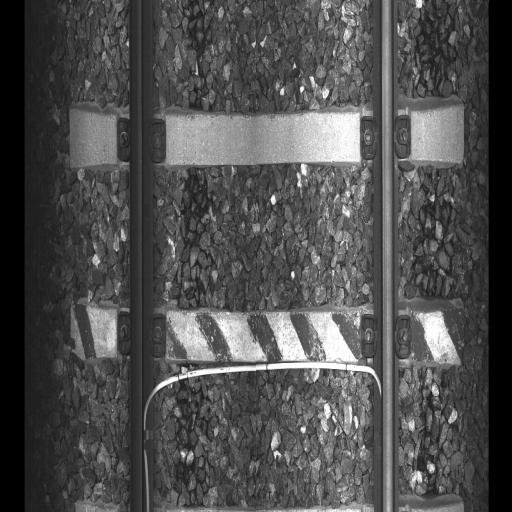clips: (114, 308, 167, 364), (115, 110, 166, 162), (359, 313, 413, 361), (361, 114, 410, 162)
sleepers: (66, 298, 464, 372), (69, 105, 465, 171)
